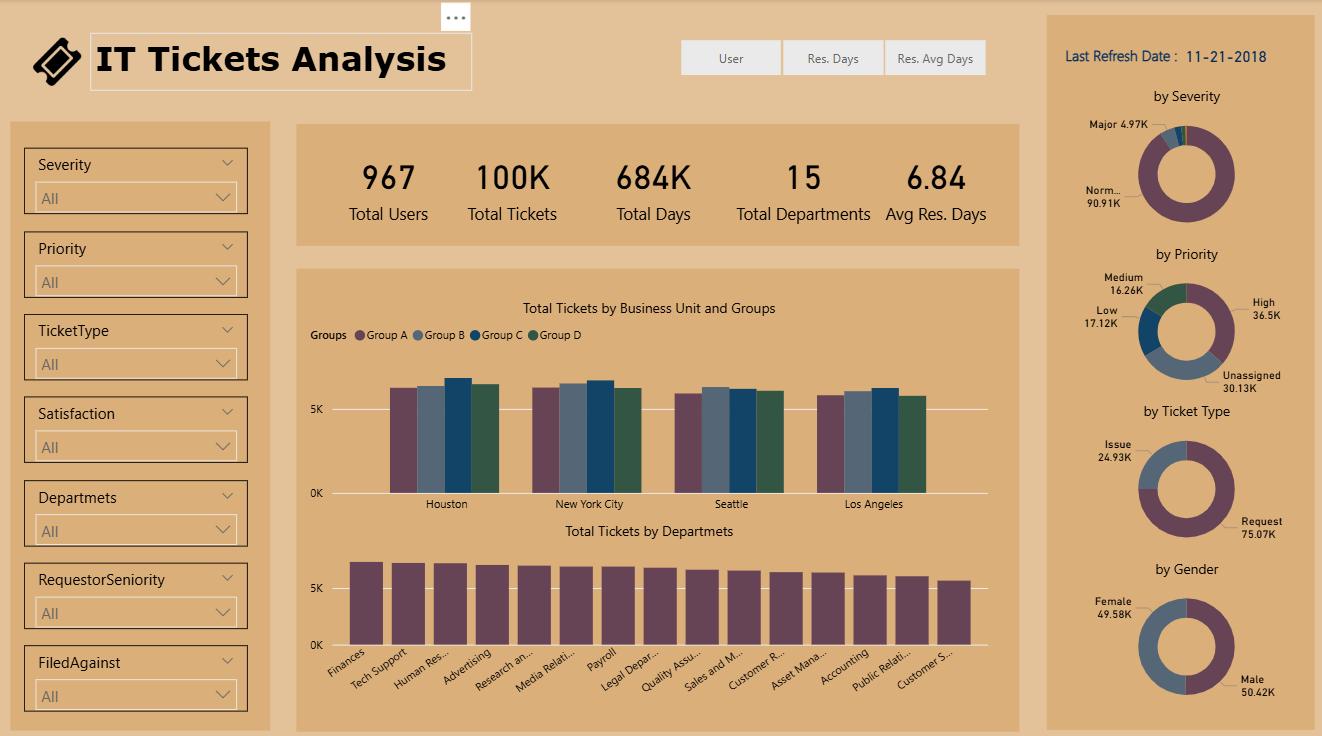

The dashboard page shown, as its layout file describes it:
{"tool":"powerbi","page":{"name":"Page 1","canvas":[1280,720],"ordinal":0},"visuals":[{"type":"basicShape","box":[8,112,256,600],"z":0},{"type":"textbox","box":[88,32,368,56],"z":1000},{"type":"basicShape","box":[280,120,712,120],"z":2000},{"type":"basicShape","box":[1008,8,264,704],"z":3000},{"type":"basicShape","box":[280,256,712,456],"z":4000},{"type":"donutChart","title":"by Severity","fields":{"Y":["All Measures.Measure logic"],"Category":["IT-Help-Desk.Severity"]},"box":[1042.3,84.3,208,152],"z":5000},{"type":"donutChart","title":"by Priority","fields":{"Y":["All Measures.Measure logic"],"Category":["IT-Help-Desk.Priority"]},"box":[1042.3,236.3,208,152],"z":6000},{"type":"donutChart","title":"by Ticket Type","fields":{"Y":["All Measures.Measure logic"],"Category":["IT-Help-Desk.TicketType"]},"box":[1042.3,388.3,208,152],"z":7000},{"type":"donutChart","title":"by Gender","fields":{"Y":["All Measures.Measure logic"],"Category":["IT-Help-Desk.Gender"]},"box":[1042.3,540.3,208,152],"z":8000},{"type":"clusteredColumnChart","fields":{"Category":["IT-Help-Desk.Business Unit"],"Series":["IT-Help-Desk.Groups"],"Y":["All Measures.Total Tickets"]},"box":[296,288,664,216],"z":9000},{"type":"lineClusteredColumnComboChart","fields":{"Y":["All Measures.Total Tickets"],"Category":["IT-Help-Desk.Departmets"]},"box":[296,504,664,176],"z":10000},{"type":"image","box":[24,32,64,56],"z":11000},{"type":"card","fields":{"Values":["All Measures.Total Users"]},"box":[304,136,144,88],"z":12000},{"type":"card","fields":{"Values":["All Measures.Total Days"]},"box":[560,136,144,88],"z":13000},{"type":"card","fields":{"Values":["All Measures.Avg Res. Days"]},"box":[832,136,144,88],"z":14000},{"type":"card","fields":{"Values":["All Measures.Total Departments"]},"box":[704,136,144,88],"z":15000},{"type":"card","fields":{"Values":["All Measures.Total Tickets"]},"box":[424,136,144,88],"z":16000},{"type":"card","fields":{"Values":["Min(Last Refresh Date.LastRefresh)"]},"box":[1136,32,96,48],"z":17000},{"type":"textbox","box":[1024,40,128,32],"z":18000},{"type":"slicer","fields":{"Values":["IT-Help-Desk.Severity"]},"box":[24,144,216,64],"z":19000},{"type":"slicer","fields":{"Values":["IT-Help-Desk.Priority"]},"box":[24,224,216,64],"z":20000},{"type":"slicer","fields":{"Values":["IT-Help-Desk.TicketType"]},"box":[24,304,216,64],"z":21000},{"type":"slicer","fields":{"Values":["IT-Help-Desk.Satisfaction"]},"box":[24,384,216,64],"z":22000},{"type":"slicer","fields":{"Values":["IT-Help-Desk.Departmets"]},"box":[24,464,216,64],"z":23000},{"type":"slicer","fields":{"Values":["IT-Help-Desk.RequestorSeniority"]},"box":[24,544,216,64],"z":24000},{"type":"slicer","fields":{"Values":["IT-Help-Desk.FiledAgainst"]},"box":[24,624,216,64],"z":25000},{"type":"slicer","fields":{"Values":["Measure selection.Measure"]},"box":[632,32,344,48],"z":26000}]}

Visuals, with their boxes in screenshot pixels (x1, y1, x2, y2), scaled from the page's 1280x720 canvas onto the 1322x736 screenshot:
basicShape: 8,114,273,728
textbox: 91,33,471,90
basicShape: 289,123,1025,245
basicShape: 1041,8,1314,728
basicShape: 289,262,1025,728
"by Severity" donutChart: 1077,86,1291,242
"by Priority" donutChart: 1077,242,1291,397
"by Ticket Type" donutChart: 1077,397,1291,552
"by Gender" donutChart: 1077,552,1291,708
clusteredColumnChart - IT-Help-Desk.Business Unit x IT-Help-Desk.Groups: 306,294,991,515
lineClusteredColumnComboChart - All Measures.Total Tickets x IT-Help-Desk.Departmets: 306,515,991,695
image: 25,33,91,90
card - All Measures.Total Users: 314,139,463,229
card - All Measures.Total Days: 578,139,727,229
card - All Measures.Avg Res. Days: 859,139,1008,229
card - All Measures.Total Departments: 727,139,876,229
card - All Measures.Total Tickets: 438,139,587,229
card - Min(Last Refresh Date.LastRefresh): 1173,33,1272,82
textbox: 1058,41,1190,74
slicer - IT-Help-Desk.Severity: 25,147,248,213
slicer - IT-Help-Desk.Priority: 25,229,248,294
slicer - IT-Help-Desk.TicketType: 25,311,248,376
slicer - IT-Help-Desk.Satisfaction: 25,393,248,458
slicer - IT-Help-Desk.Departmets: 25,474,248,540
slicer - IT-Help-Desk.RequestorSeniority: 25,556,248,622
slicer - IT-Help-Desk.FiledAgainst: 25,638,248,703
slicer - Measure selection.Measure: 653,33,1008,82
